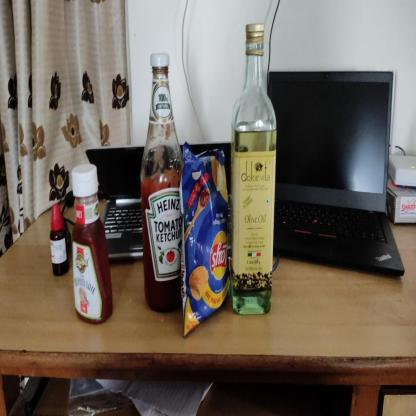indian_magic_masala: (178, 143, 230, 337)
